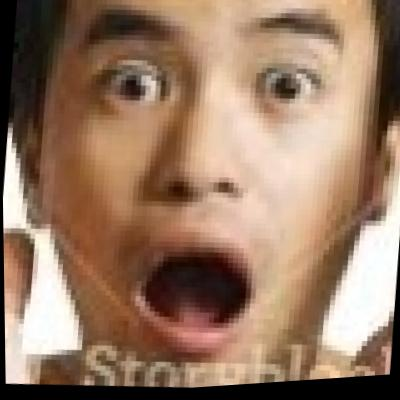surprise: (31, 0, 383, 388)
